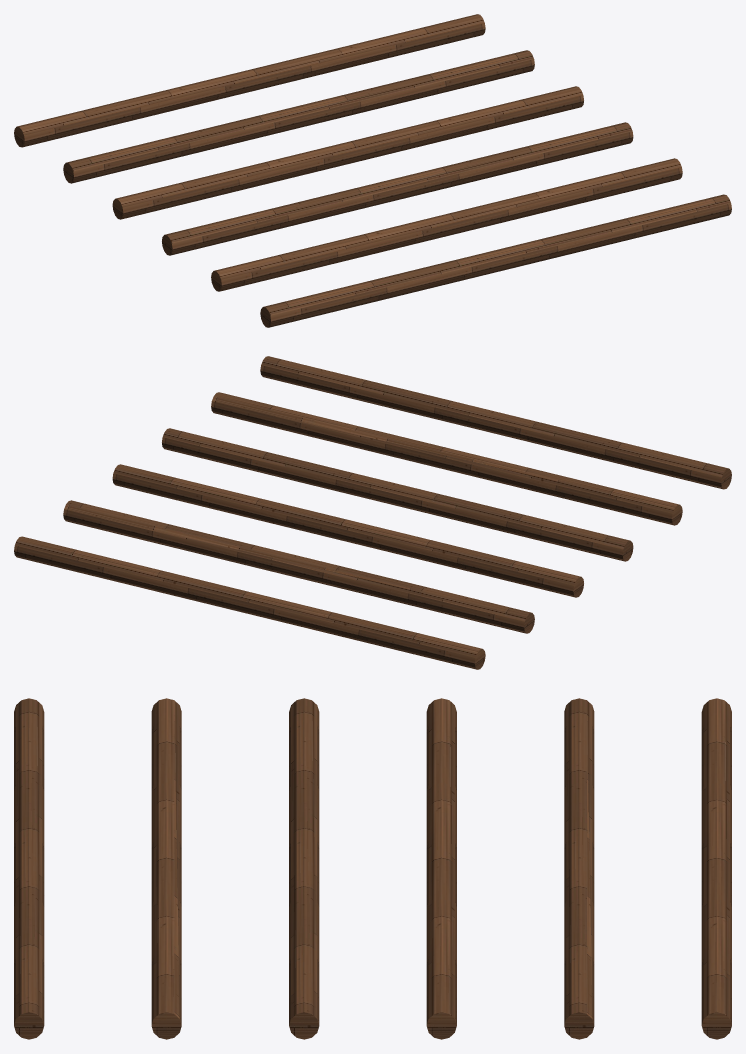
The model's file is c_vigas.glb.
3 views of the same model, one above another, from view 1: azimuth 30°, elevation 25°; view 2: azimuth 150°, elevation 25°; view 3: azimuth 270°, elevation 25° (orthographic). The views are drawn at different scales.
Parts seen in each view (by area): view 1: c_vigas_wood; view 2: c_vigas_wood; view 3: c_vigas_wood.
Part boxes in pixels (bbox=[...]): c_vigas_wood: bbox=[14, 14, 731, 327]; c_vigas_wood: bbox=[14, 356, 731, 669]; c_vigas_wood: bbox=[14, 698, 731, 1039].
Size of the model in its own units: 5.4 by 0.22 by 5.22.
Materials: 1 (1 with a texture image).
